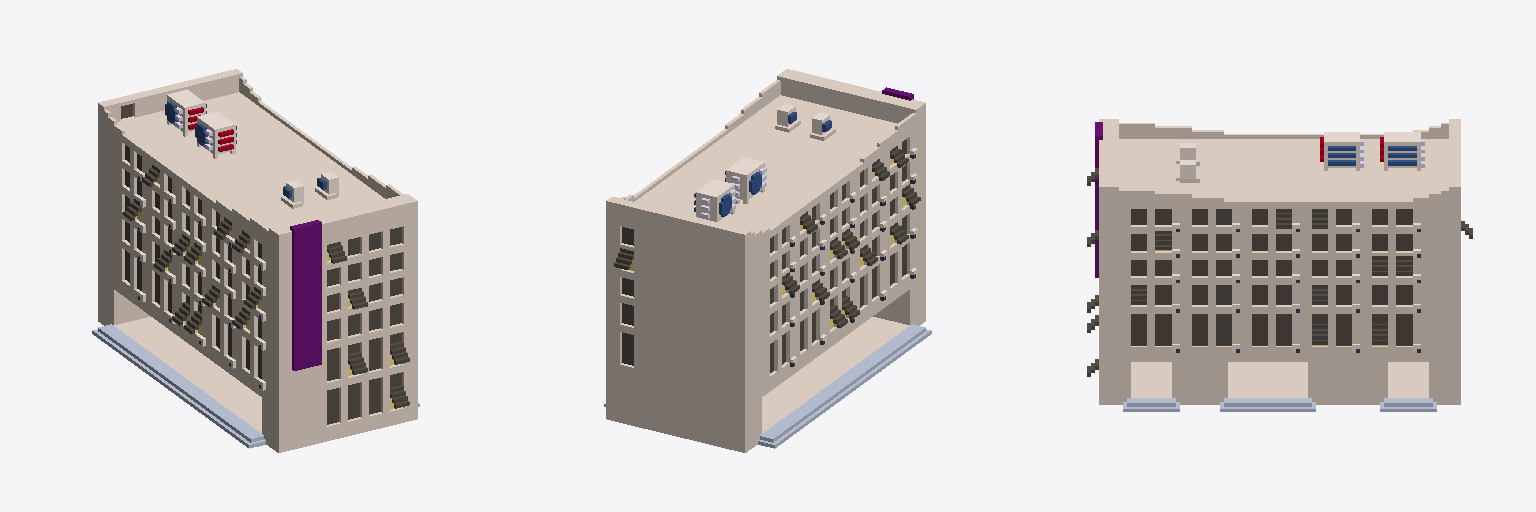
The picture shows the model from 3 angles: view 1: azimuth 30°, elevation 25°; view 2: azimuth 150°, elevation 25°; view 3: azimuth 270°, elevation 25°; orthographic projection.
Parts seen in each view (by area): view 1: object 1; view 2: object 1; view 3: object 1.
Boxes of the visible parts, <box> form: object 1: <box>92,69,419,452</box>; object 1: <box>604,69,931,452</box>; object 1: <box>1087,119,1472,411</box>.
Size of the model in its own units: 4.9 by 6.3 by 9.6.
Materials: 1 (1 with a texture image).